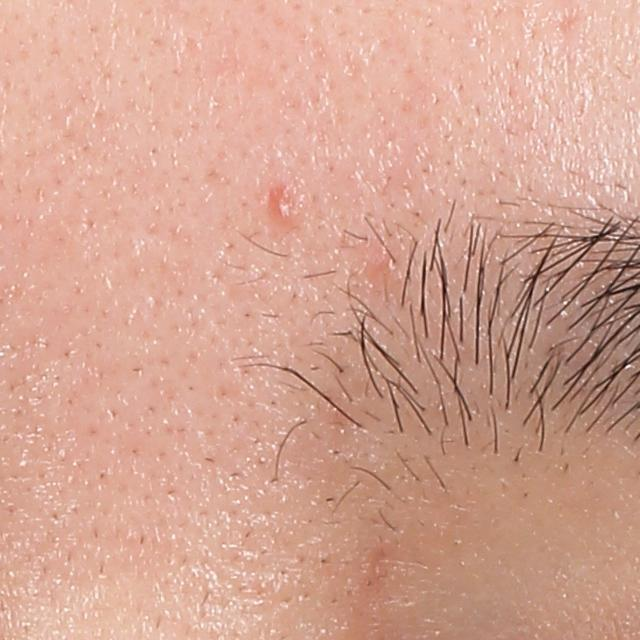papule: (273, 184, 308, 226)
